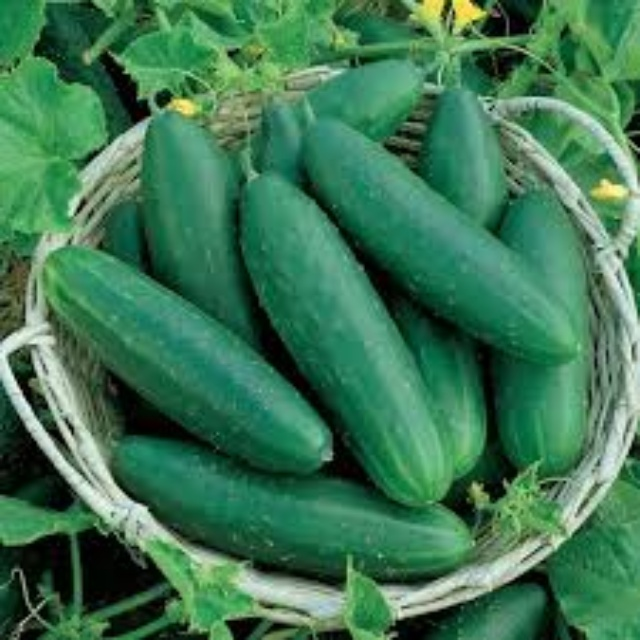dua_leo: (229, 165, 454, 506), (296, 112, 583, 370), (39, 240, 338, 478), (114, 425, 480, 583)
